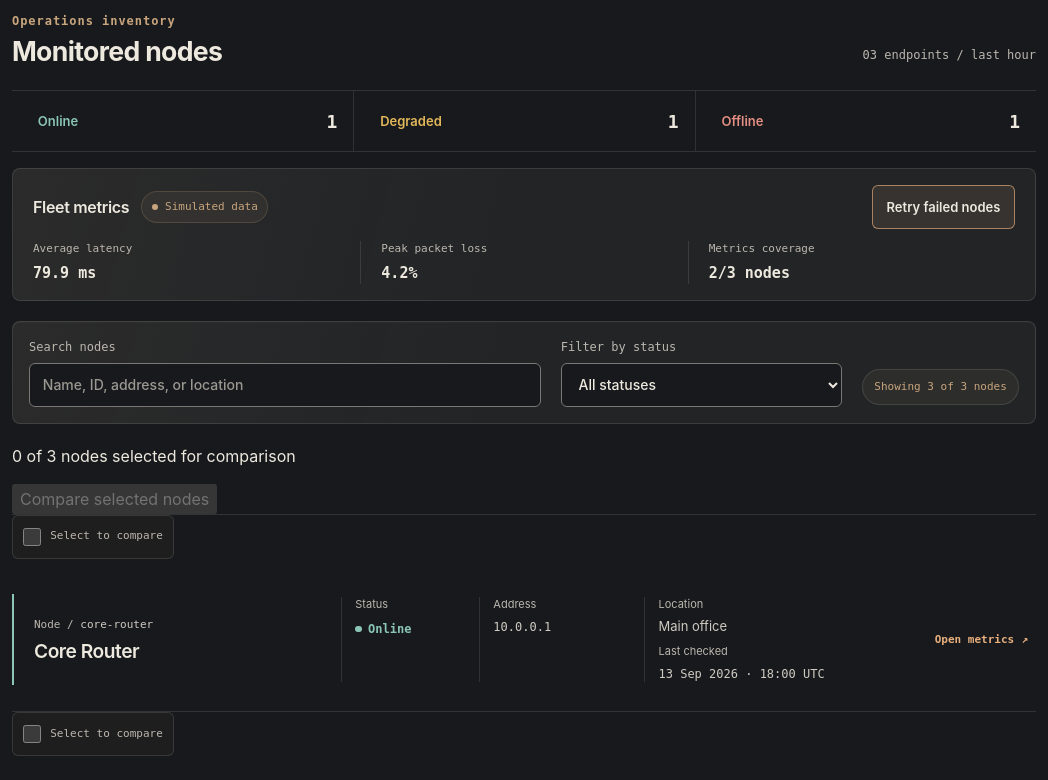
NetworkNodesPanel › shows partial coverage and retries only the failed node while preserving valid metrics
Check: the text "2/3 nodes" is shown, box [709, 264, 790, 282]
Check: the text "79.9 ms" is shown, box [33, 264, 96, 282]
Click the button "Retry failed nodes" at (944, 208), box [872, 186, 1015, 230]
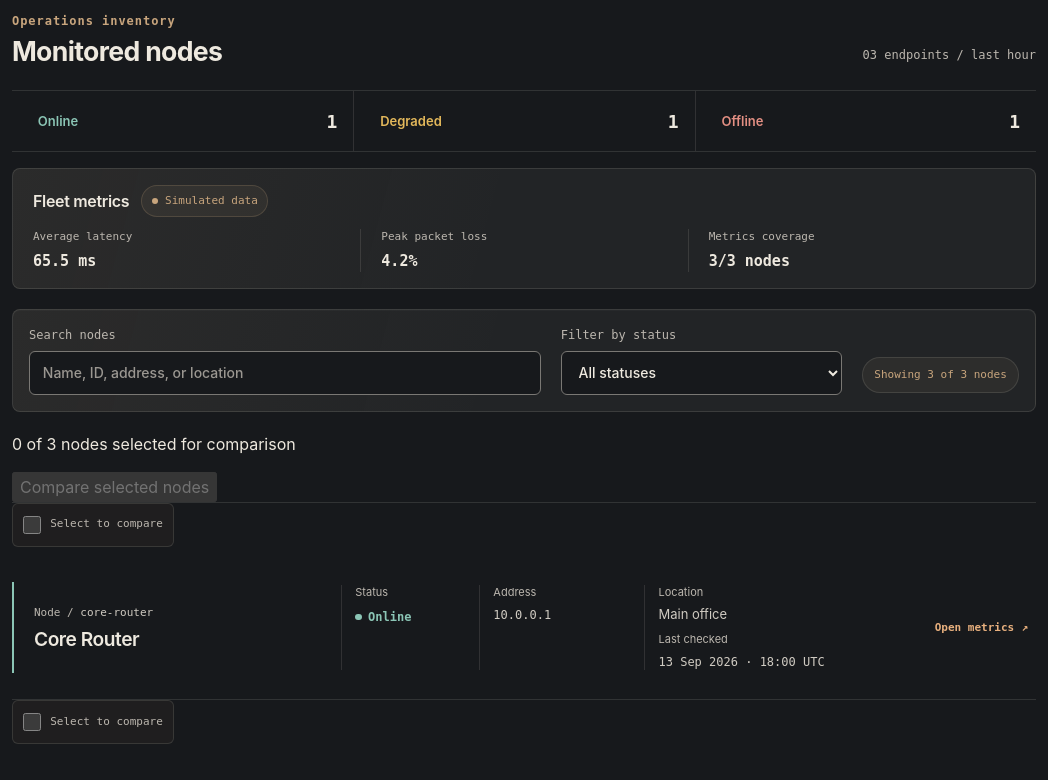
Check: the text "3/3 nodes" is shown, box [709, 252, 790, 270]
Check: the text "65.5 ms" is shown, box [33, 252, 96, 270]
Check: the button "Retry failed nodes" is gone
